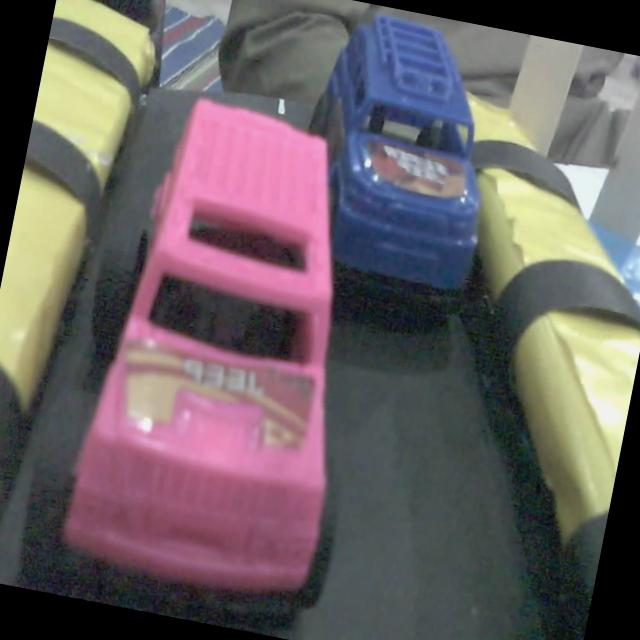TwoCar: (20, 82, 418, 636), (310, 15, 481, 311)
